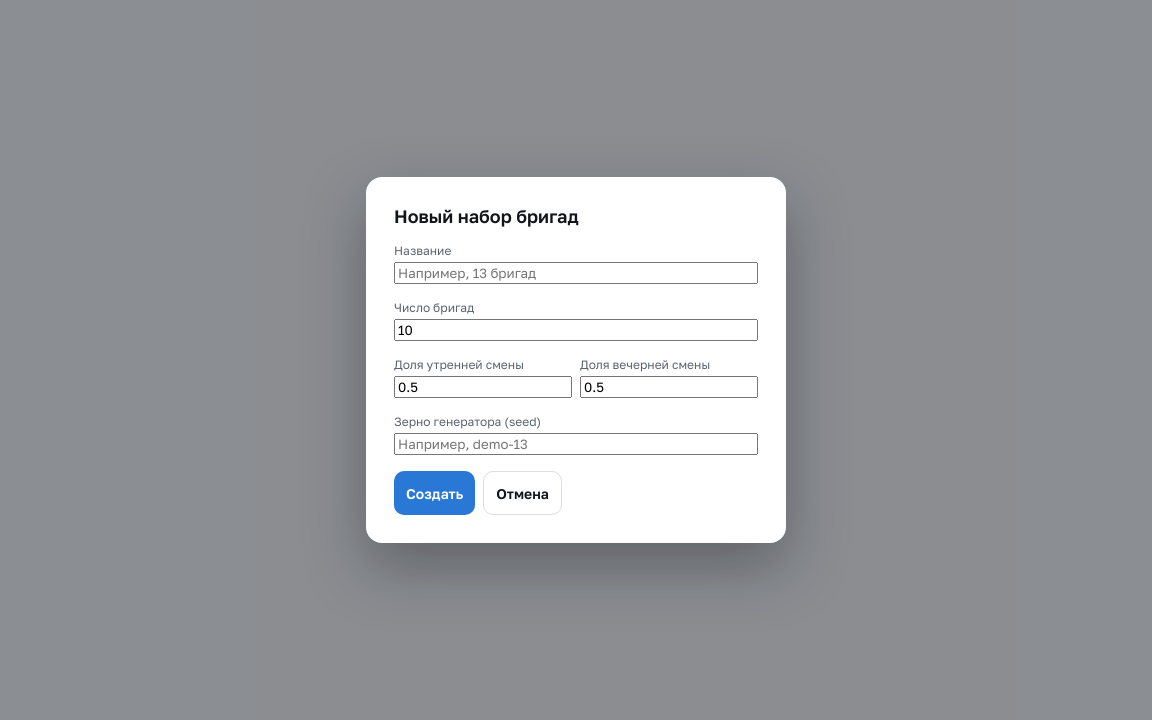
it: EngineerSetCreateForm › rejects a shift share out of the 0–1 range before sending the request
Type "13 бригад" into the field labelled "Название".
click(576, 273); type("13 бригад")  # box [394, 262, 758, 284]
Replace the text in the number field labelled "Число бригад" with "13" at (576, 330), box [394, 319, 758, 341]
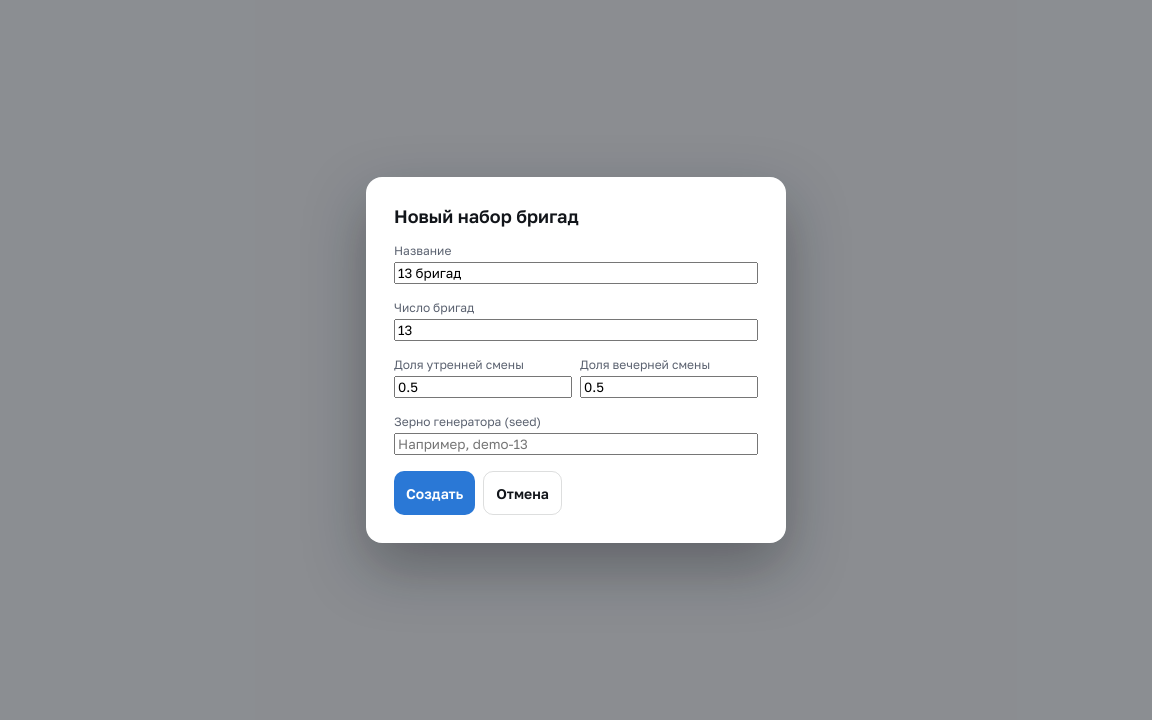
Replace the text in the number field labelled "Доля утренней смены" with "0.6" at (483, 387), box [394, 376, 572, 398]
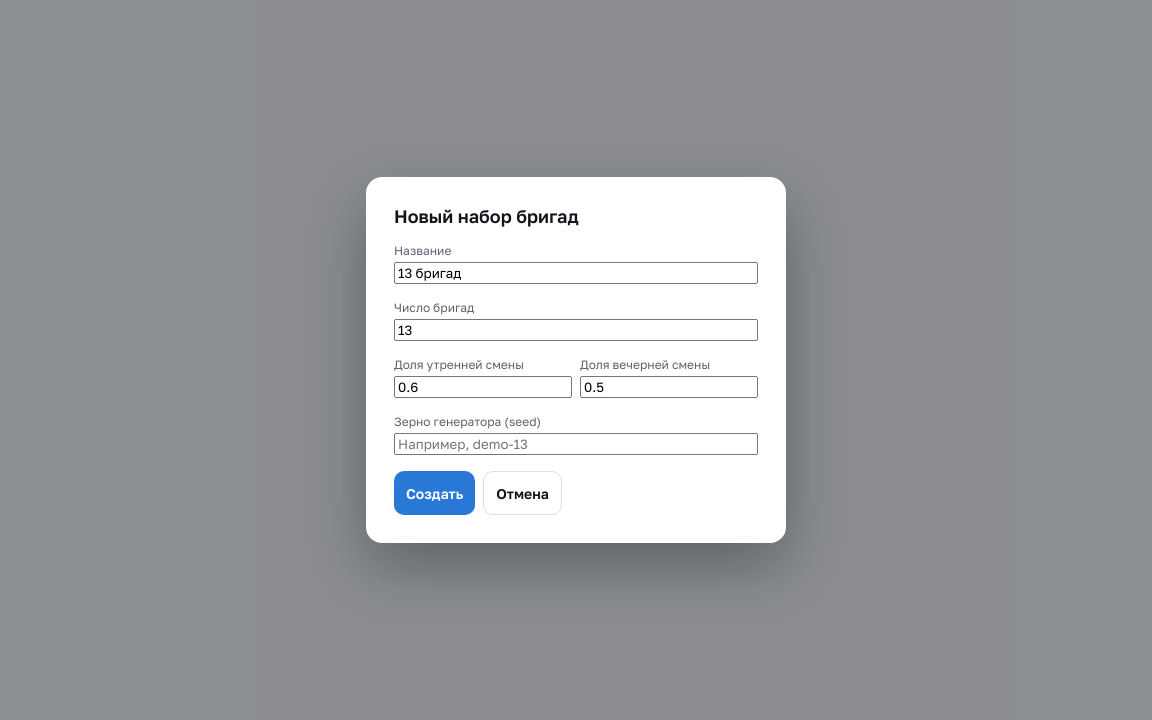
Replace the text in the number field labelled "Доля вечерней смены" with "0.4" at (669, 387), box [580, 376, 758, 398]
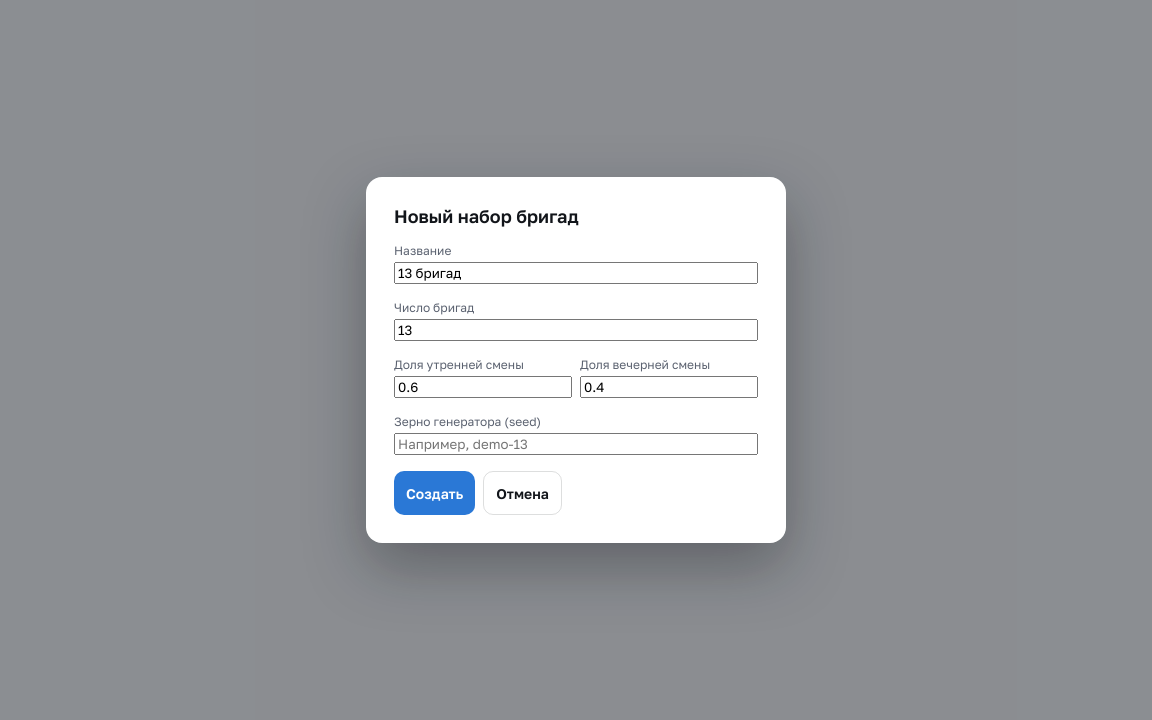
Type "demo-13" into the field labelled "Зерно генератора (seed)".
click(576, 444); type("demo-13")  # box [394, 433, 758, 455]
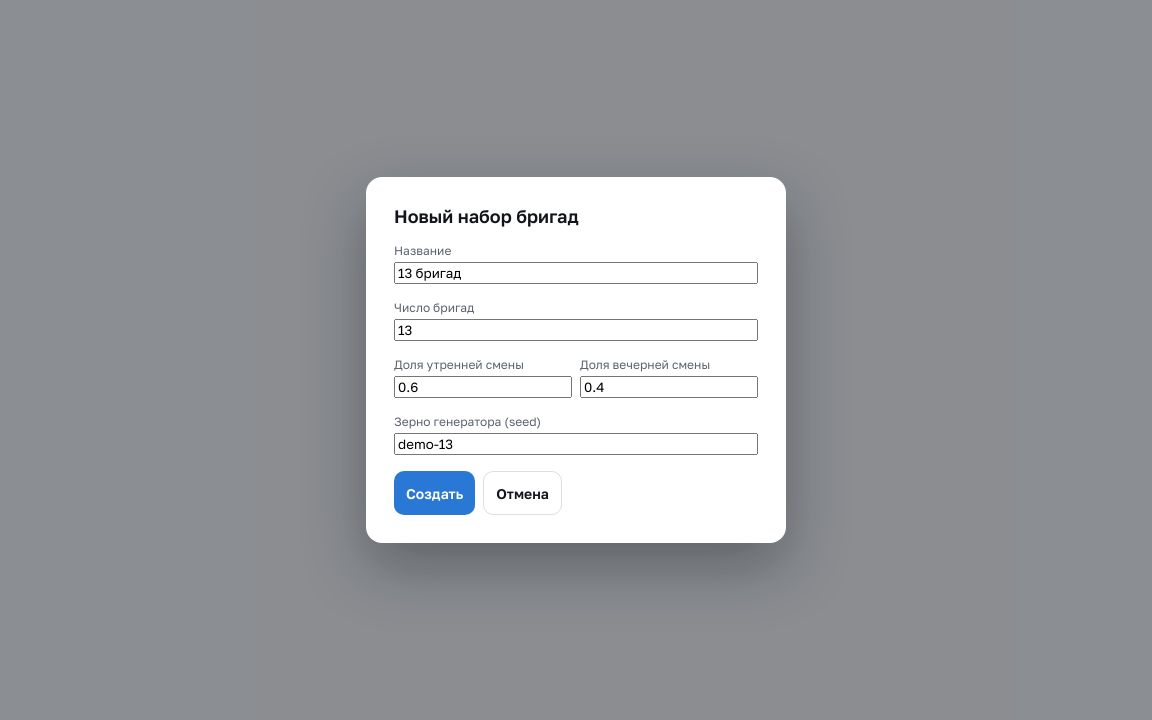
Replace the text in the number field labelled "Доля вечерней смены" with "1.5" at (669, 387), box [580, 376, 758, 398]
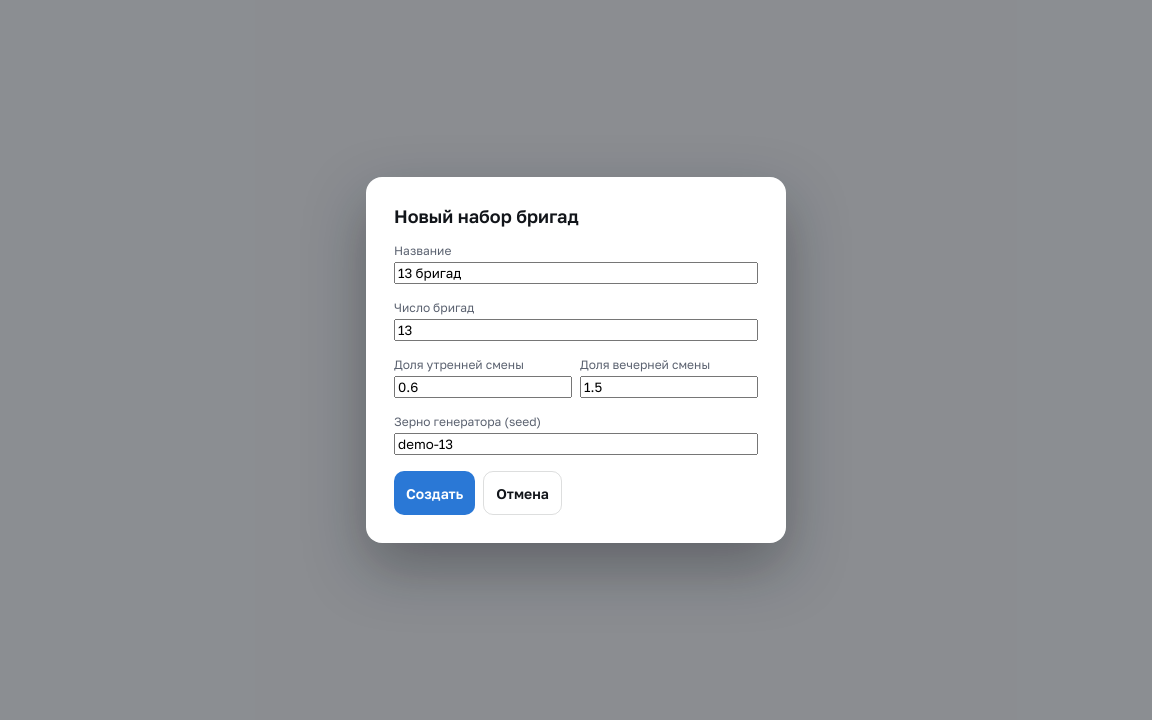
Click the button "Создать".
click(435, 493)  # box [394, 471, 475, 515]
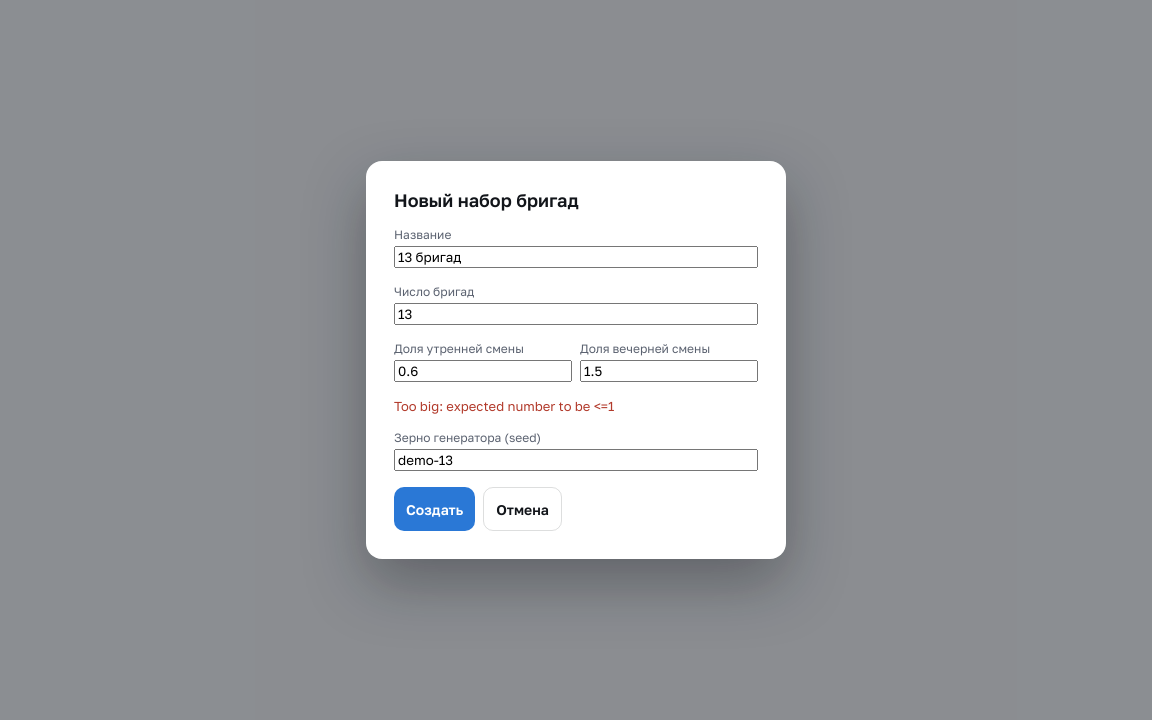
expect the text "Too big: expected number to be <=1" is shown: met, box [394, 398, 614, 414]
